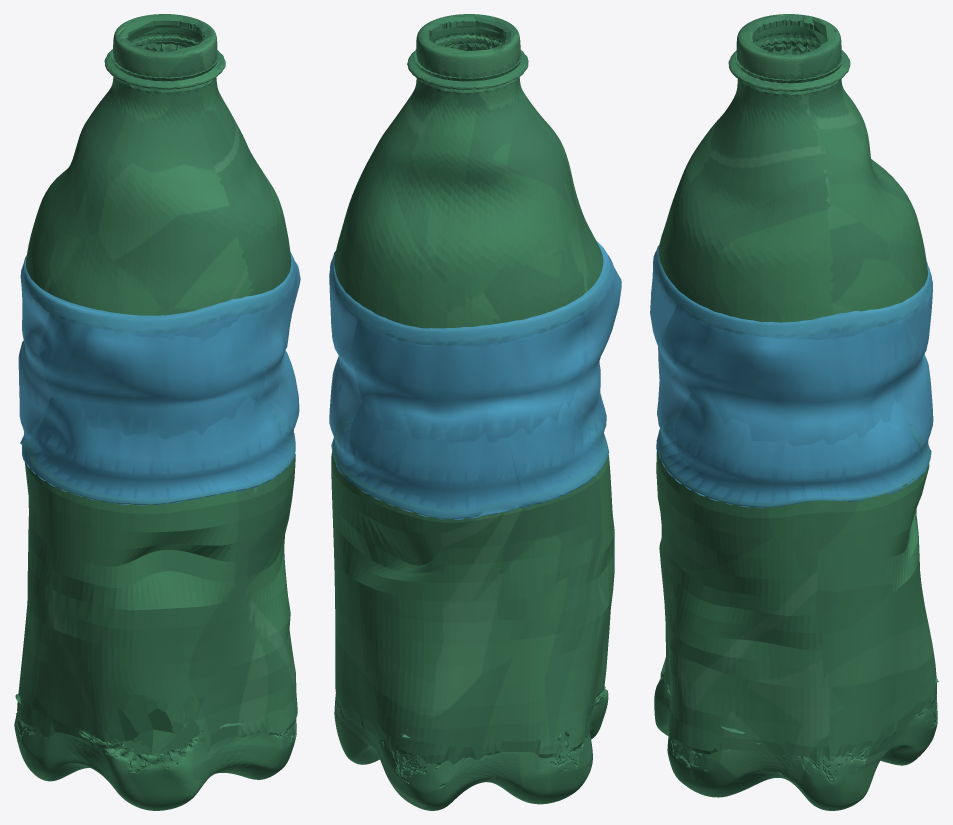
Rendered from bottle_trash.fbx.
The picture shows the model from 3 angles, left to right: view 1: azimuth 30°, elevation 25°; view 2: azimuth 150°, elevation 25°; view 3: azimuth 270°, elevation 25°; orthographic projection.
Visible parts, largest first — view 1: Bottle Plastic, Bottle Wrapper; view 2: Bottle Plastic, Bottle Wrapper; view 3: Bottle Plastic, Bottle Wrapper.
Part boxes in pixels (x1,y1,x2,y2): Bottle Plastic: [14, 14, 297, 810]; Bottle Wrapper: [18, 252, 300, 505]; Bottle Plastic: [331, 14, 614, 810]; Bottle Wrapper: [329, 242, 621, 519]; Bottle Plastic: [654, 14, 938, 810]; Bottle Wrapper: [650, 245, 933, 508].
Size of the model in its own units: 10.93 by 30.46 by 10.83.
